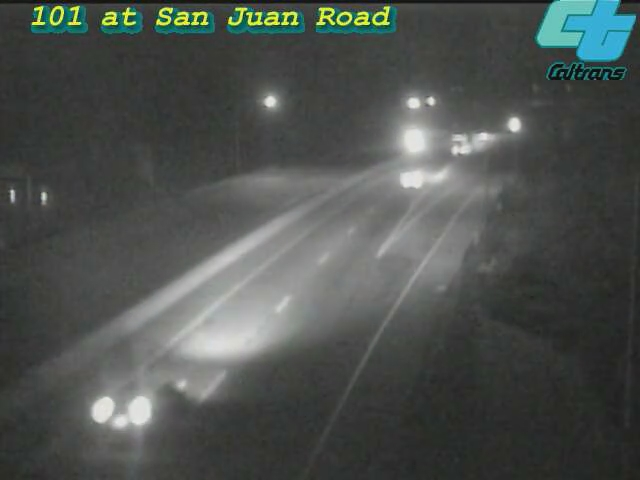vehicle: (84, 351, 194, 461), (374, 137, 454, 217), (389, 116, 439, 166), (490, 100, 540, 150), (460, 112, 510, 162), (448, 119, 498, 169)
